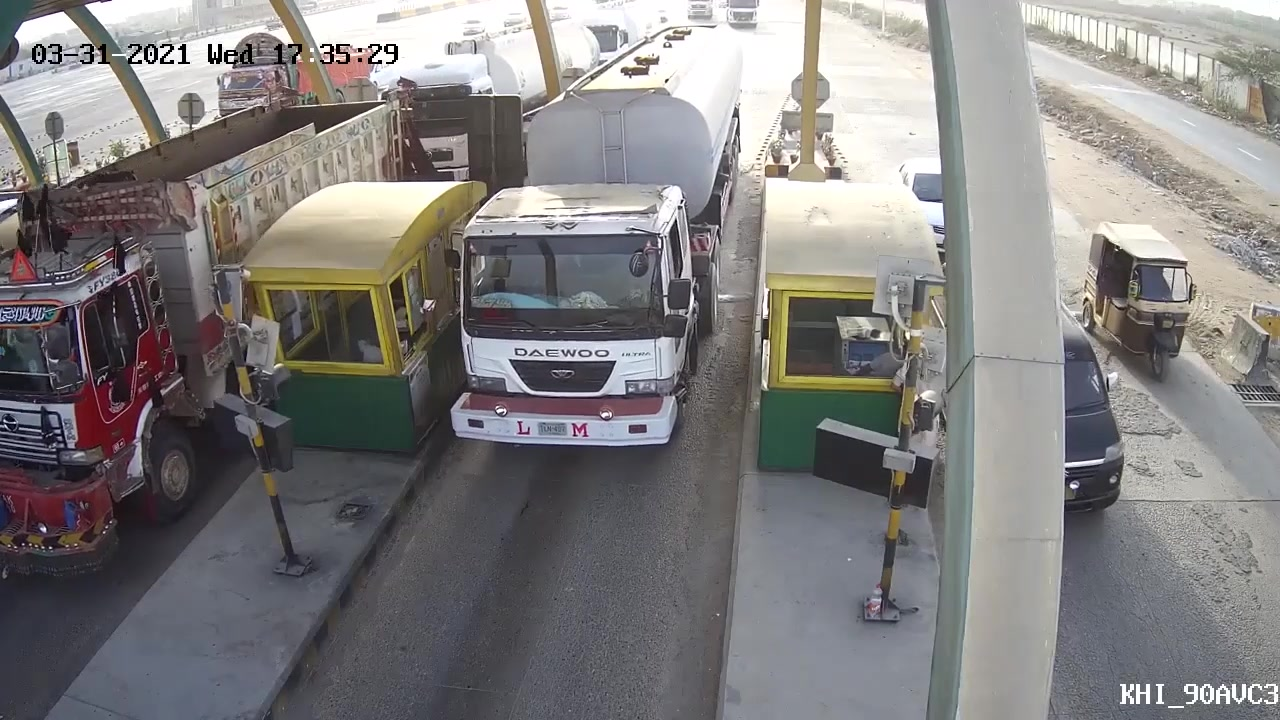F5: (442, 87, 730, 479)
